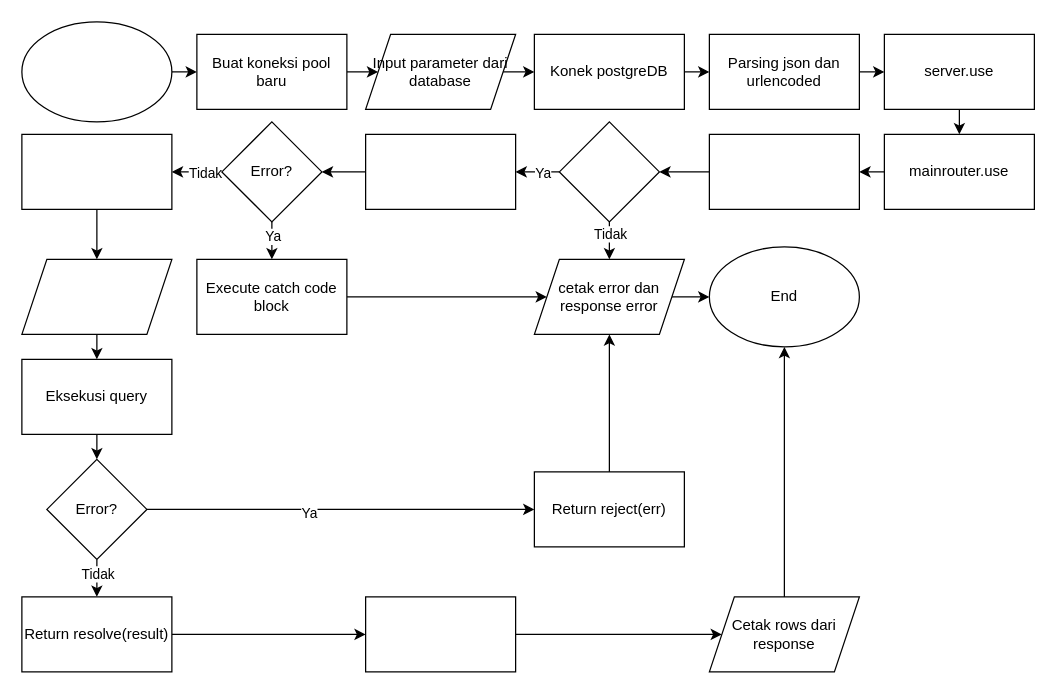
This 1056x694 diagram has some shape labels left out. The shapes that lost their labels are listed below. From the top down, each one's centre as x and y in pixels, then its label:
(96,71): Start
(96,171): Deklarasi nilai query
(440,171): Execute try code block dari fungsi drop
(608,171): URL found?
(783,171): userRouter.delete
(96,296): Input Parameter ID
(440,634): response = result
